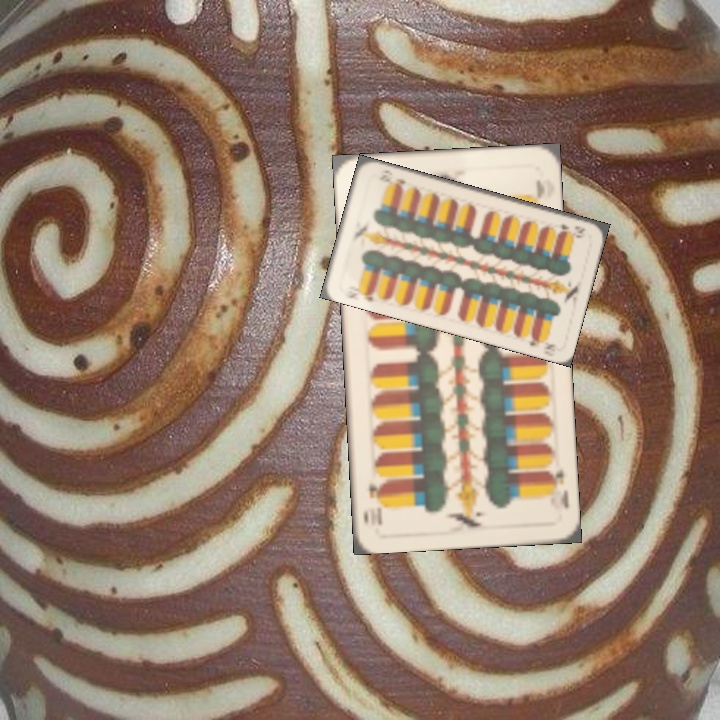E10: (542, 465, 571, 511), (339, 284, 378, 305), (551, 220, 588, 240)
